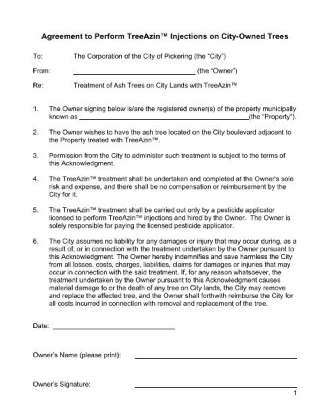textline: (131, 342, 300, 363), (131, 374, 301, 391), (69, 62, 197, 77), (50, 317, 179, 331), (79, 112, 251, 122)
